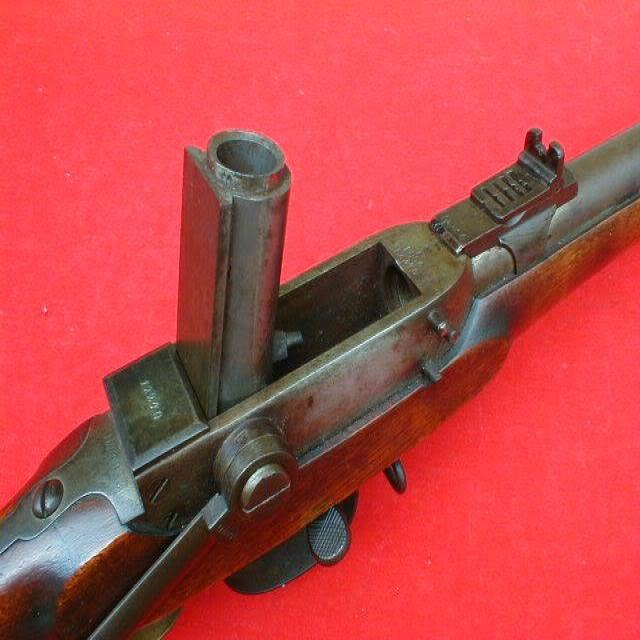firearm: (0, 123, 640, 640)
